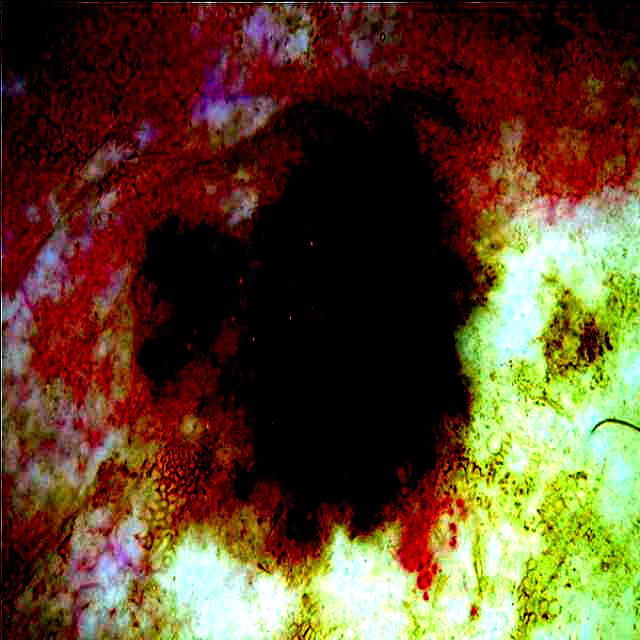MEL: (139, 114, 465, 551)
